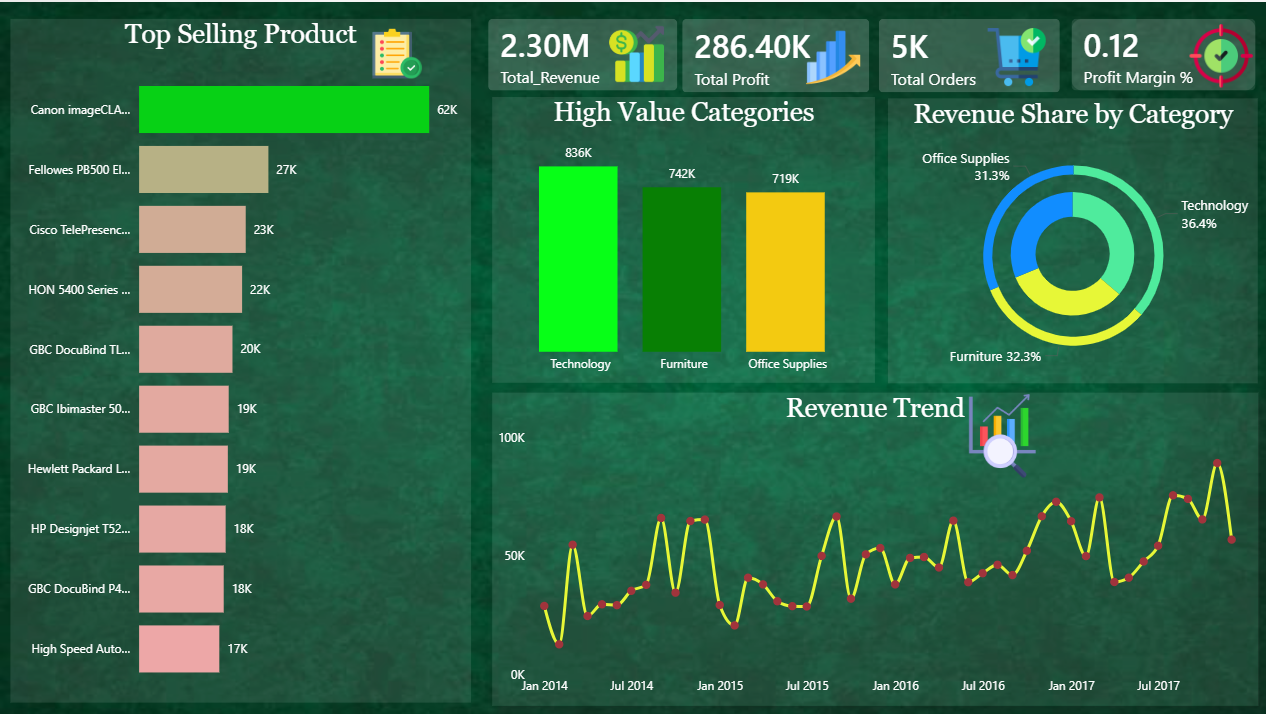

The dashboard page shown, as its layout file describes it:
{"tool":"powerbi","page":{"name":"Dashboard","canvas":[1280,720],"ordinal":1},"visuals":[{"type":"group","id":"g1","title":"Group 1","box":[473.8,0,224.5,106.8],"z":0},{"type":"cardVisual","fields":{"Data":["Table.Total_Revenue"]},"box":[473.8,0,224.5,106.8],"z":0,"group":"g1"},{"type":"cardVisual","fields":{"Data":["Table.Total Profit"]},"box":[668.8,0,222.9,108.4],"z":0,"group":"g2"},{"type":"cardVisual","fields":{"Data":["Table.Total Orders"]},"box":[867,0,216.8,108.4],"z":0,"group":"g3"},{"type":"cardVisual","fields":{"Data":["Table.Profit Margin %"]},"box":[1060.6,0,219.9,106.8],"z":0},{"type":"image","box":[607.3,20.1,65,65],"z":7,"group":"g1"},{"type":"group","id":"g2","title":"Group 2","box":[668.8,0,222.9,108.4],"z":1000},{"type":"image","box":[1190.6,21.7,72.8,63.5],"z":1000},{"type":"image","box":[809.9,25.6,54.6,58.5],"z":1000,"group":"g2"},{"type":"image","box":[989.1,25.6,67.6,58.5],"z":1000,"group":"g3"},{"type":"group","id":"g3","title":"Group 3","box":[867,0,216.8,108.4],"z":2000},{"type":"lineChart","title":"Revenue Trend","fields":{"Y":["Table.Total_Revenue"],"Category":["Sample - Superstore.Order Date.Variation.Date Hierarchy.Year","Sample - Superstore.Order Date.Variation.Date Hierarchy.Month"]},"box":[494.3,392.8,770,314.8],"z":4000},{"type":"clusteredBarChart","title":"Top Selling Product","fields":{"Y":["Table.Total_Revenue"],"Category":["Sample - Superstore.Product Name"]},"box":[10.8,17,462.9,687.4],"z":4001},{"type":"clusteredColumnChart","title":"High Value Categories","fields":{"Category":["Sample - Superstore.Category"],"Y":["Table.Total_Revenue"]},"box":[494.3,95,385,287.5],"z":4002},{"type":"donutChart","title":"Revenue Share by Category","fields":{"Y":["Table.Total_Revenue"],"Category":["Sample - Superstore.Category"]},"box":[892.3,96.3,372,286.2],"z":4003},{"type":"donutChart","fields":{"Y":["Table.Total_Revenue"],"Category":["Sample - Superstore.Category"]},"box":[966.4,170.4,223.7,165.2],"z":4004},{"type":"image","box":[374.7,26.3,49.5,51.1],"z":4005},{"type":"image","box":[958.4,393.3,99.1,86.7],"z":4006}]}

Visuals, with their boxes in screenshot pixels (x1, y1, x2, y2), scaled from the page's 1280x720 canvas onto the 1266x714 screenshot:
"Group 1" group: BBox(469, 0, 691, 106)
cardVisual - Table.Total_Revenue: BBox(469, 0, 691, 106)
cardVisual - Table.Total Profit: BBox(661, 0, 882, 107)
cardVisual - Table.Total Orders: BBox(858, 0, 1072, 107)
cardVisual - Table.Profit Margin %: BBox(1049, 0, 1265, 106)
image: BBox(601, 20, 665, 84)
"Group 2" group: BBox(661, 0, 882, 107)
image: BBox(1178, 22, 1250, 84)
image: BBox(801, 25, 855, 83)
image: BBox(978, 25, 1045, 83)
"Group 3" group: BBox(858, 0, 1072, 107)
"Revenue Trend" lineChart: BBox(489, 390, 1250, 702)
"Top Selling Product" clusteredBarChart: BBox(11, 17, 469, 699)
"High Value Categories" clusteredColumnChart: BBox(489, 94, 870, 379)
"Revenue Share by Category" donutChart: BBox(883, 95, 1250, 379)
donutChart - Table.Total_Revenue x Sample - Superstore.Category: BBox(956, 169, 1177, 333)
image: BBox(371, 26, 420, 77)
image: BBox(948, 390, 1046, 476)
